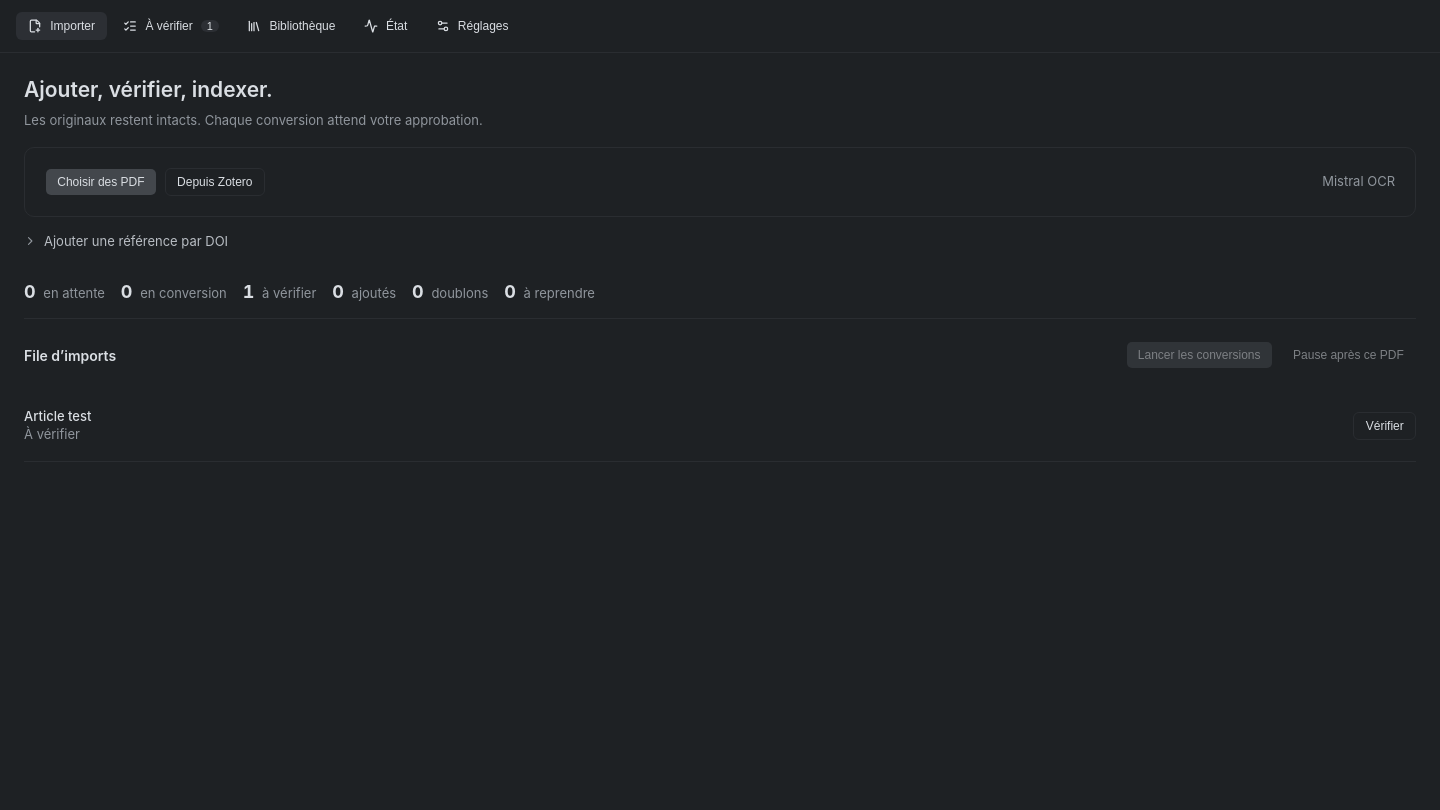
Scenario: keeps a missing-PDF extraction readable but blocks approval
Click the button "À vérifier 1". click: (171, 26)
box: [111,12,231,40]
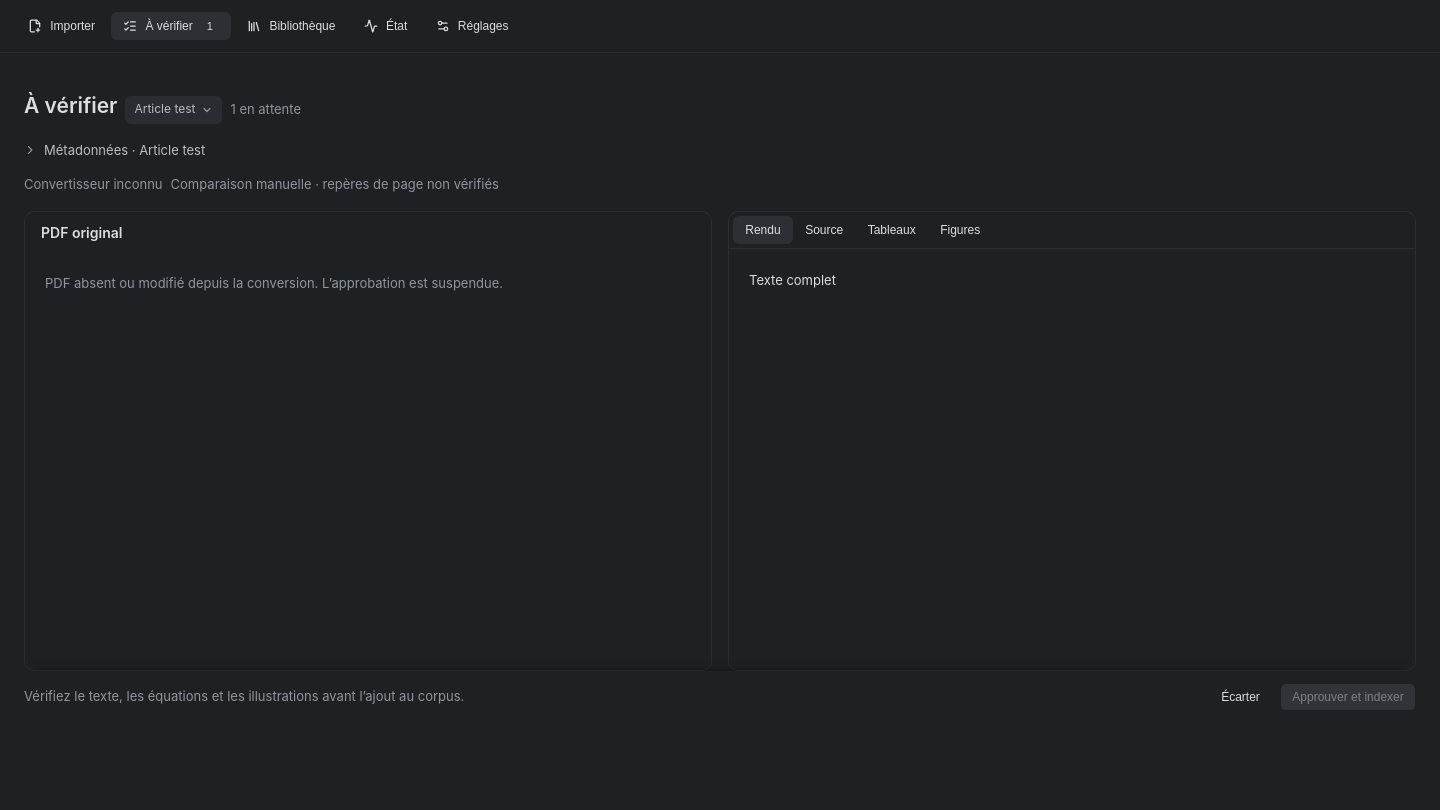
Check: the text "Texte complet" is shown, box [749,272,836,288]
Check: the button "Approuver et indexer" is disabled, box [1280,683,1416,711]
